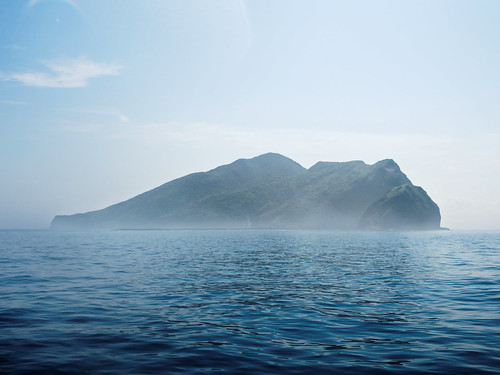turtleIsland: (51, 139, 443, 236)
